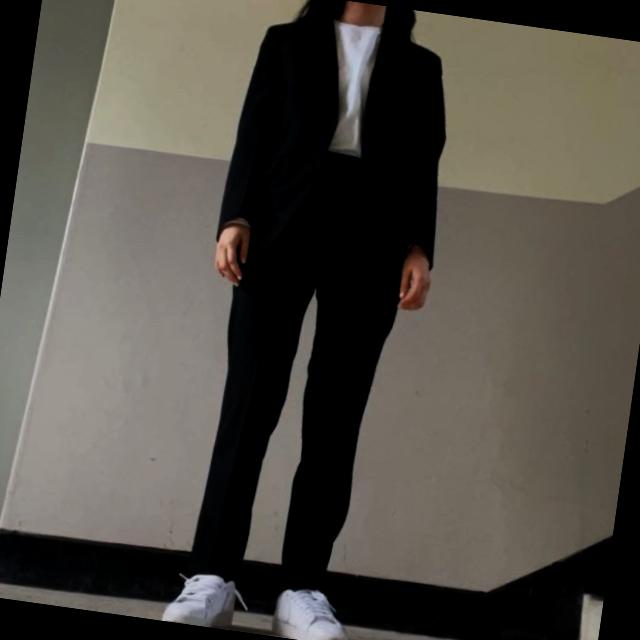blazer: (211, 7, 464, 280)
slacks: (188, 148, 421, 616)
